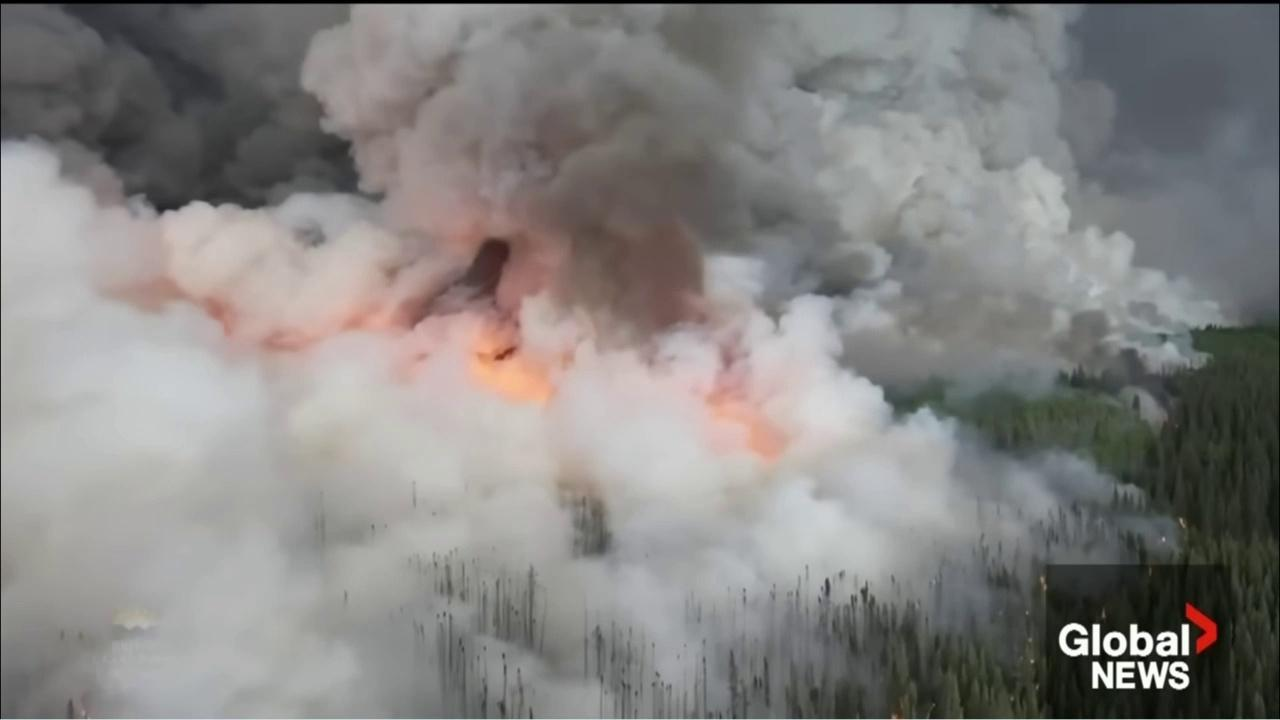fire: (1037, 575, 1050, 592), (1178, 514, 1188, 531), (887, 711, 903, 719), (1161, 533, 1167, 546)
smoke: (1, 4, 1195, 720)
